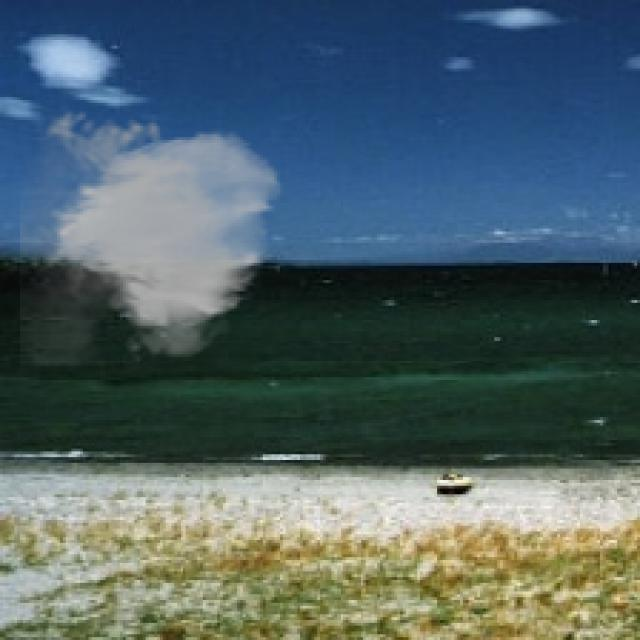smoke: (20, 103, 286, 366)
